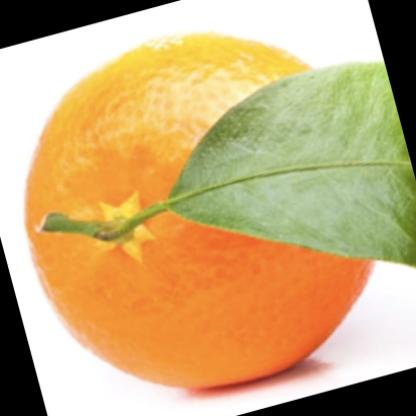fresh: (27, 37, 376, 391)
